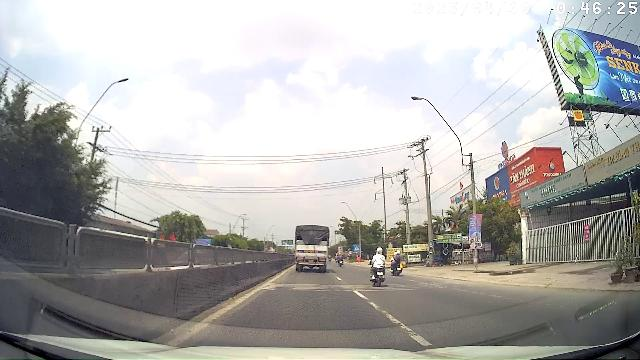423a-duong-nguoi-di-bo-sang-ngang-1: (354, 245, 360, 251)
